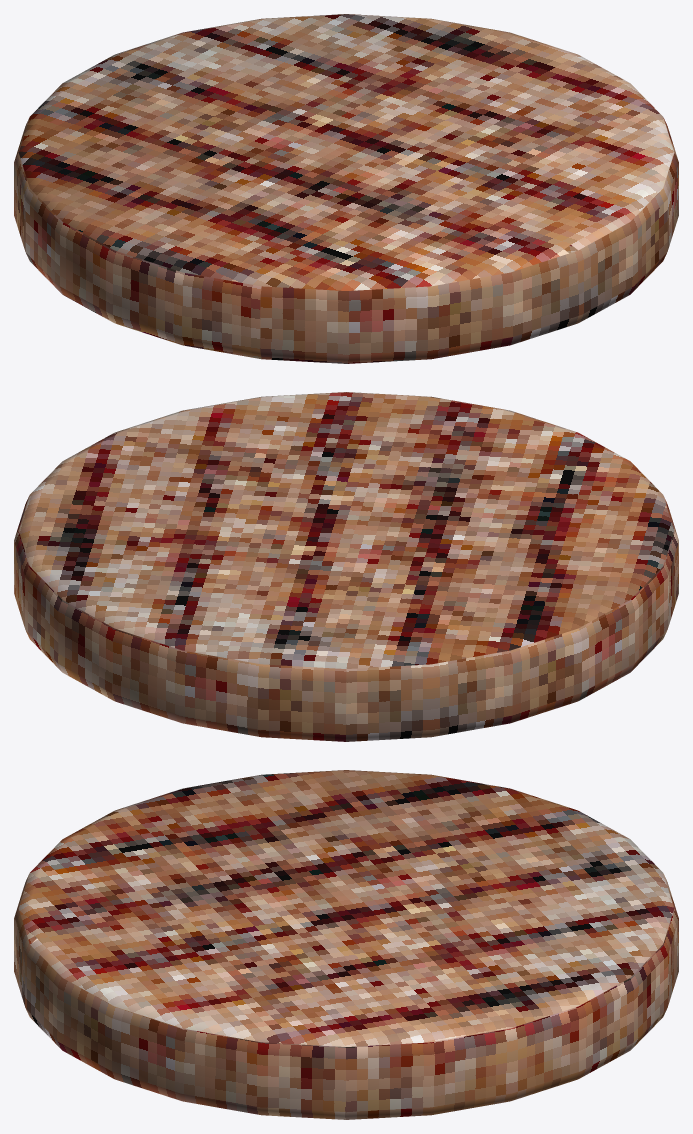
Rendered from patty.glb.
The picture shows the model from 3 angles, top to bottom: view 1: azimuth 30°, elevation 25°; view 2: azimuth 150°, elevation 25°; view 3: azimuth 270°, elevation 25°; orthographic projection.
Visible parts, largest first — view 1: Circle.005; view 2: Circle.005; view 3: Circle.005.
Boxes of the visible parts, box(x1,y1,x2,y2) form: Circle.005: box(14, 14, 678, 363); Circle.005: box(14, 392, 678, 741); Circle.005: box(14, 770, 678, 1119).
Size of the model in its own units: 20 by 2.69 by 20.
1 material, 1 textured.
